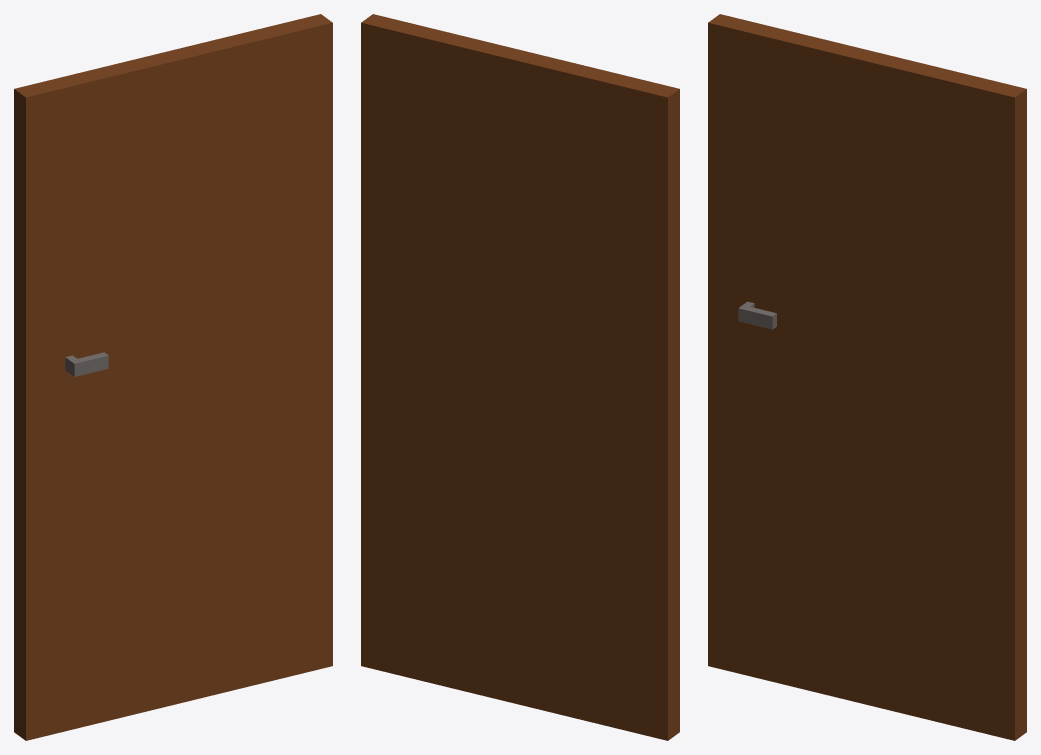
The model's file is Door.fbx.
3 views of the same model, side by side, from view 1: azimuth 30°, elevation 25°; view 2: azimuth 150°, elevation 25°; view 3: azimuth 330°, elevation 25° (orthographic).
Visible parts, largest first — view 1: Cube, Cube.001; view 2: Cube; view 3: Cube, Cube.001.
Part boxes in pixels (box(x1,y1,x2,y2)): Cube: box(14, 14, 332, 740); Cube.001: box(65, 352, 108, 376); Cube: box(361, 14, 679, 740); Cube: box(708, 14, 1026, 740); Cube.001: box(738, 301, 776, 329).
Size of the model in its own units: 690 by 1383 by 82.08.
